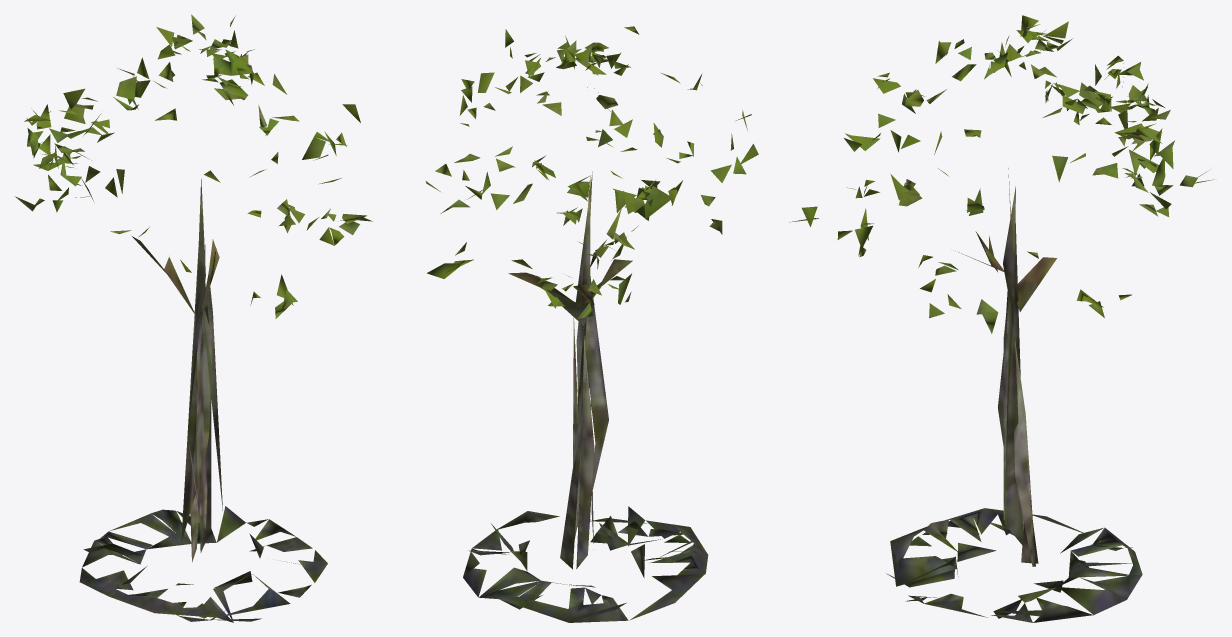
The model's file is stadt_baum_lo.glb.
3 renders of one model, left to right at view 1: azimuth 30°, elevation 25°; view 2: azimuth 150°, elevation 25°; view 3: azimuth 270°, elevation 25°, orthographic. The views are drawn at different scales.
Parts seen in each view (by area): view 1: Prop; view 2: Prop; view 3: Prop.
Boxes of the visible parts, box(x1,y1,x2,y2) form: Prop: box(15, 14, 372, 622); Prop: box(425, 26, 758, 622); Prop: box(790, 15, 1213, 622).
Size of the model in its own units: 0.613 by 0.9965 by 0.6943.
1 material, 1 textured.
